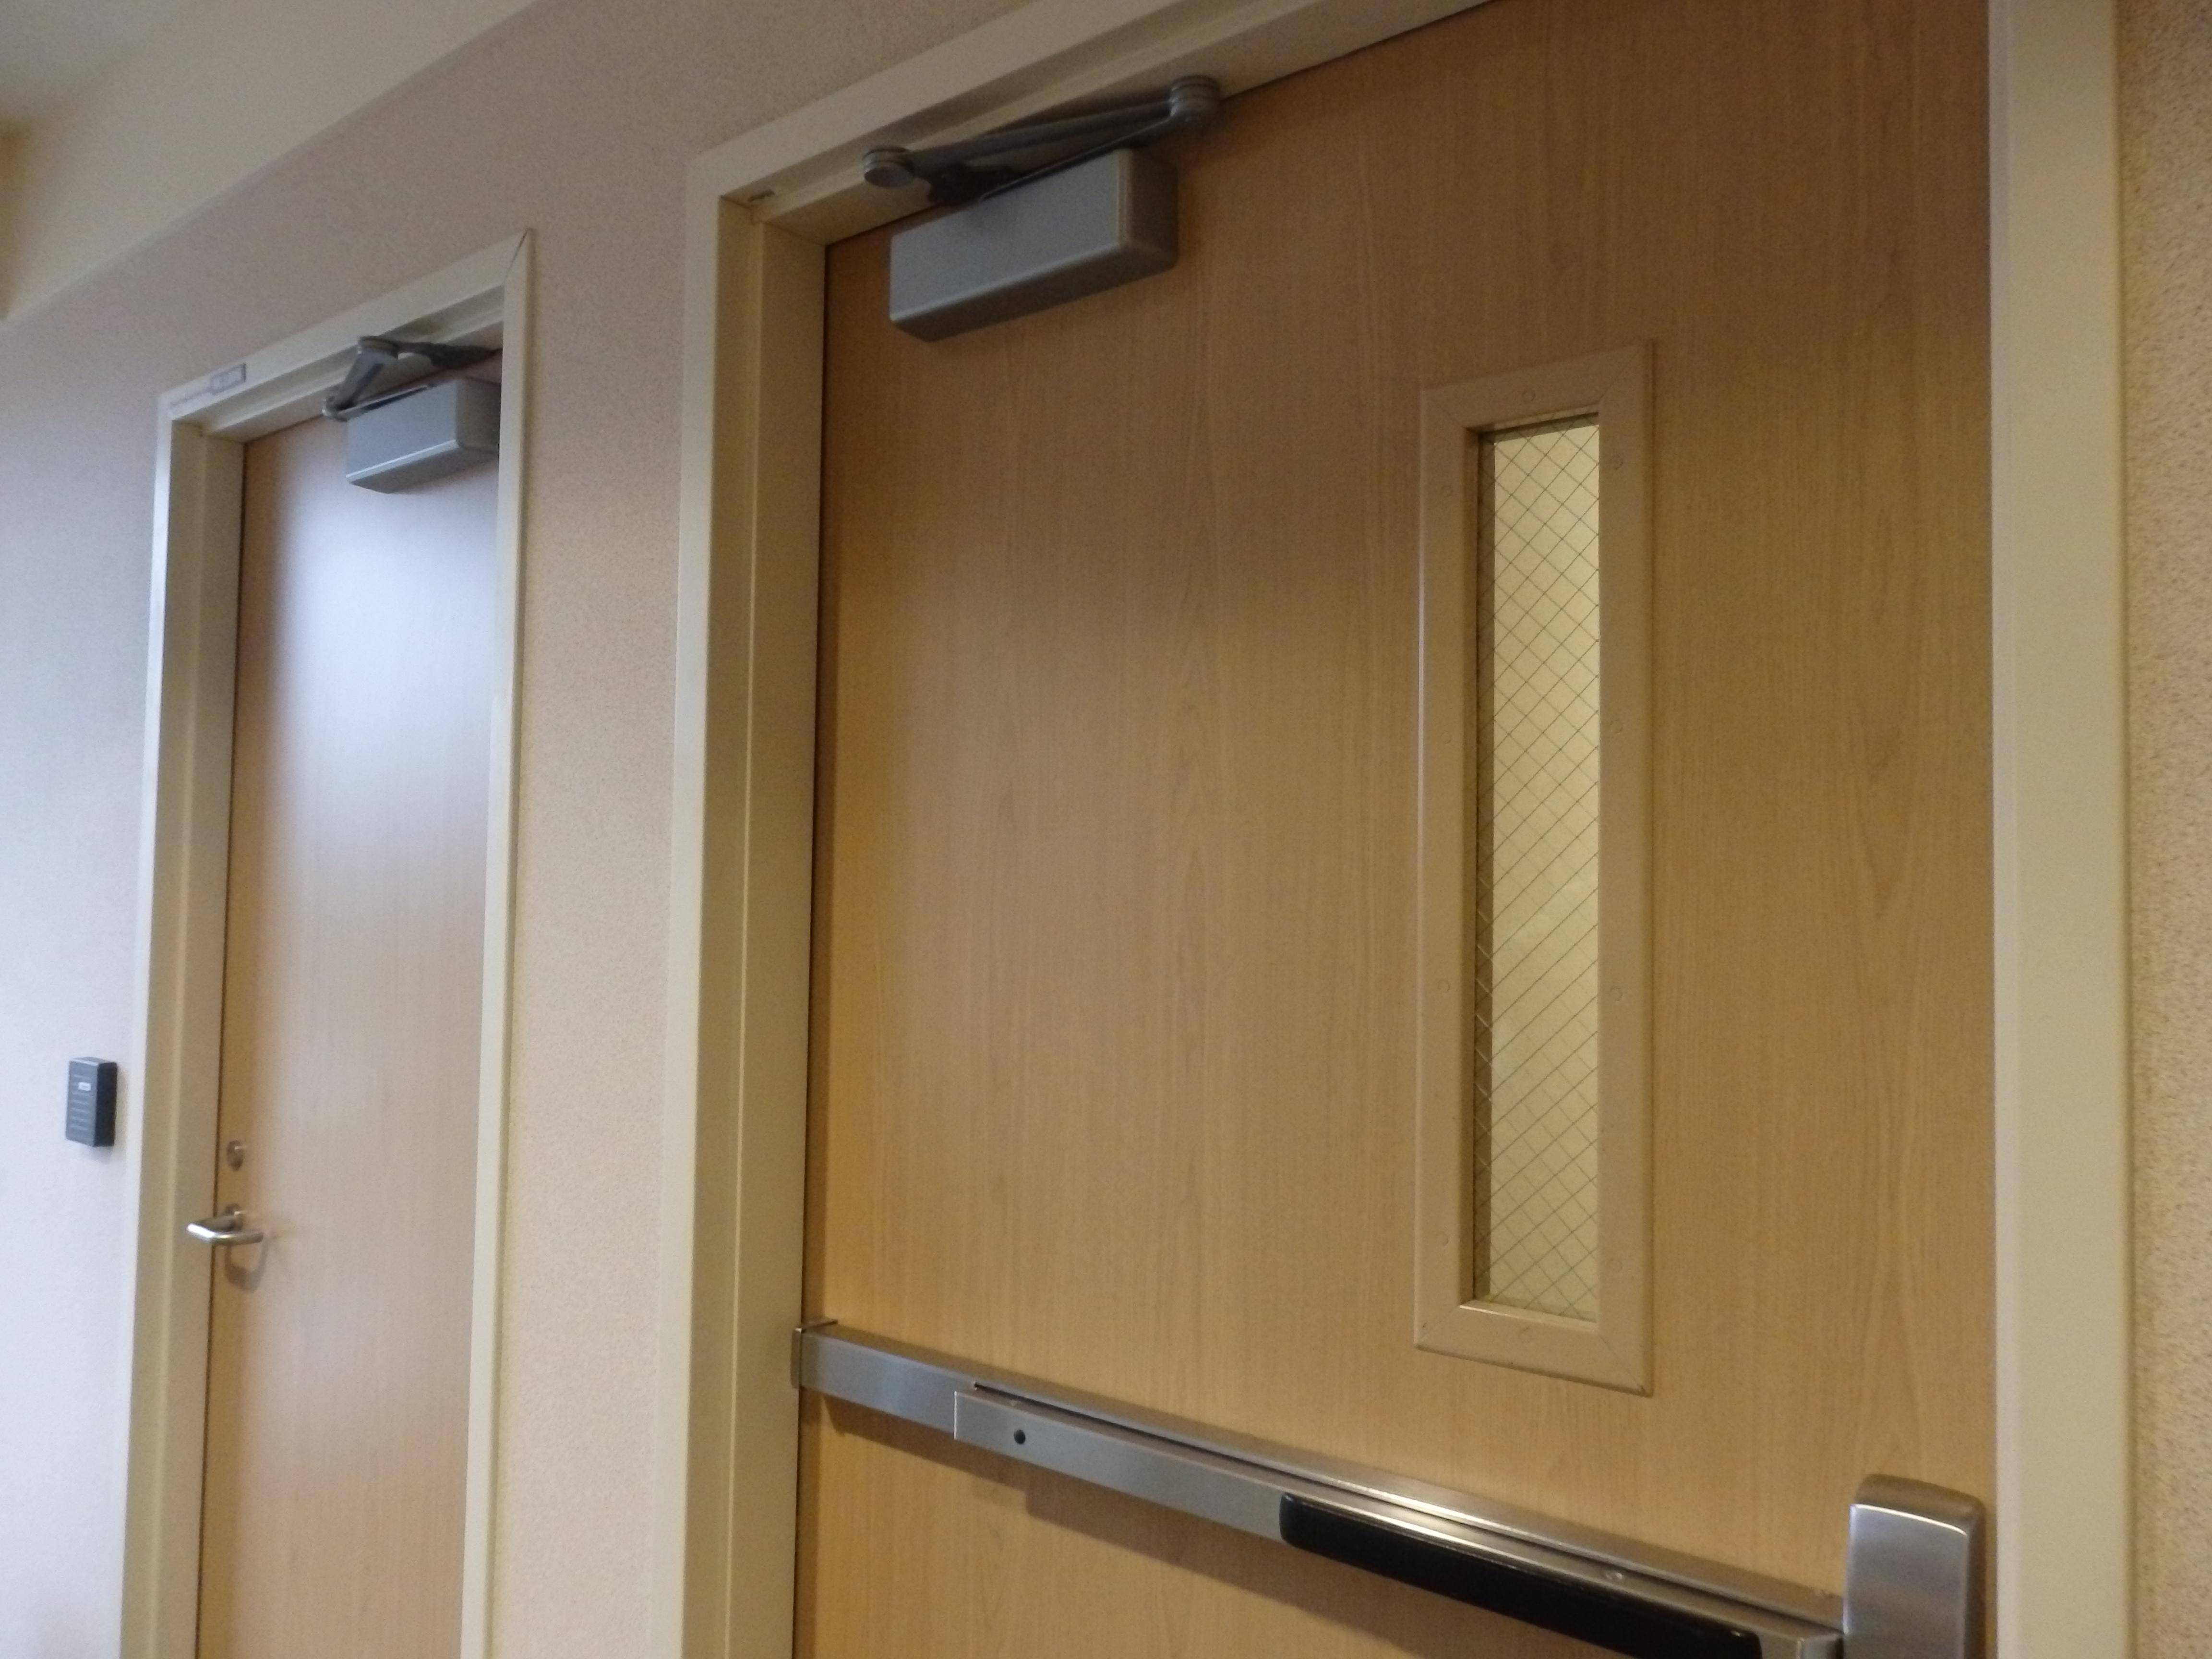door: (791, 7, 1996, 1659), (155, 326, 519, 1659)
